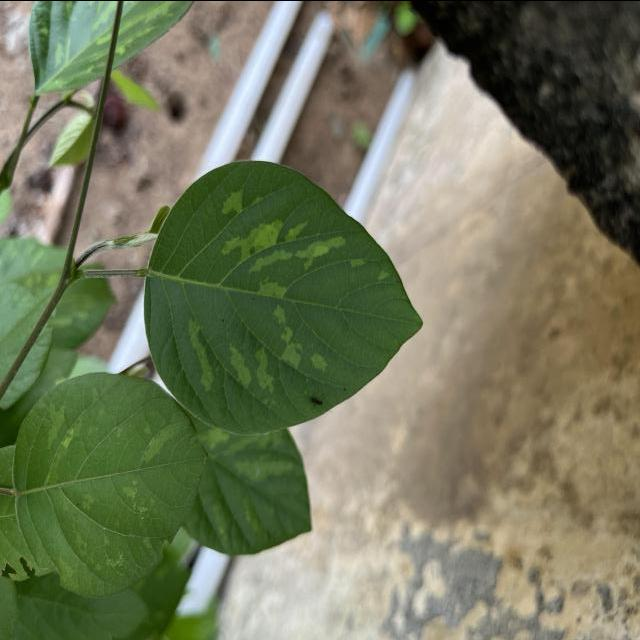Desmodium gangeticum: (140, 152, 428, 438), (11, 368, 216, 604)
